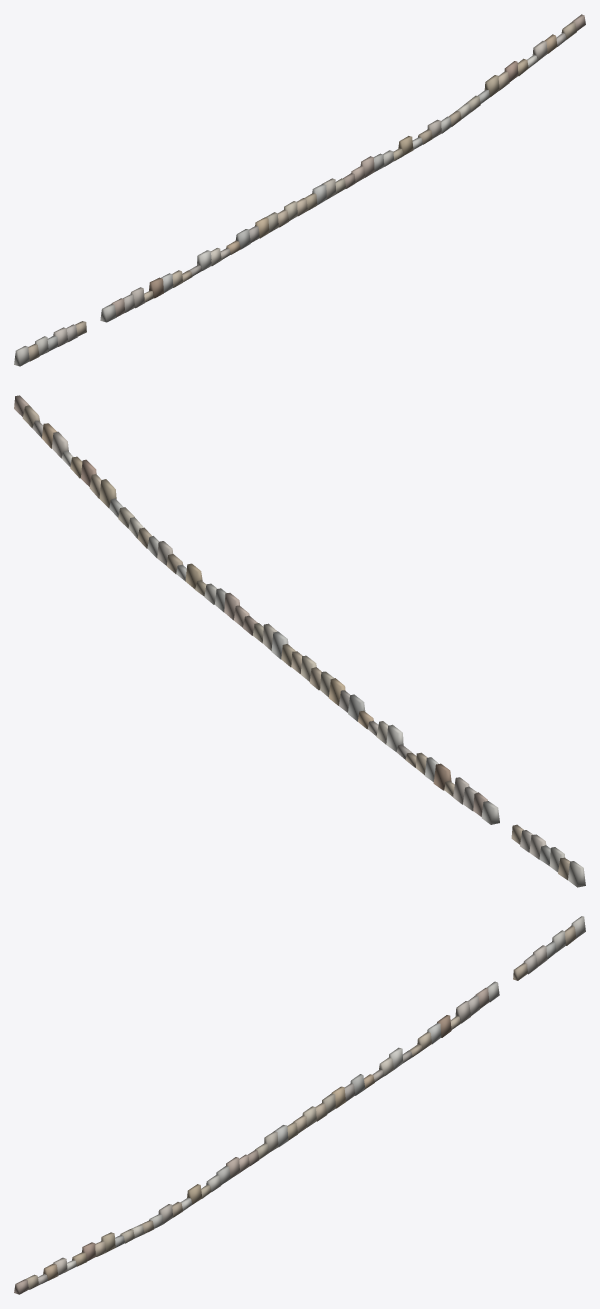
The model's file is farm_-17_-26_far.glb.
3 renders of one model, top to bottom at view 1: azimuth 90°, elevation 25°; view 2: azimuth 150°, elevation 25°; view 3: azimuth 270°, elevation 25°, orthographic. The views are drawn at different scales.
Visible parts, largest first — view 1: geometry_0; view 2: geometry_0; view 3: geometry_0.
Part boxes in pixels (x1,y1,x2,y2): geometry_0: [14, 14, 585, 366]; geometry_0: [14, 395, 585, 887]; geometry_0: [14, 916, 585, 1294].
Bounding box in the file's own units: 78.11 × 4.59 × 53.38.
